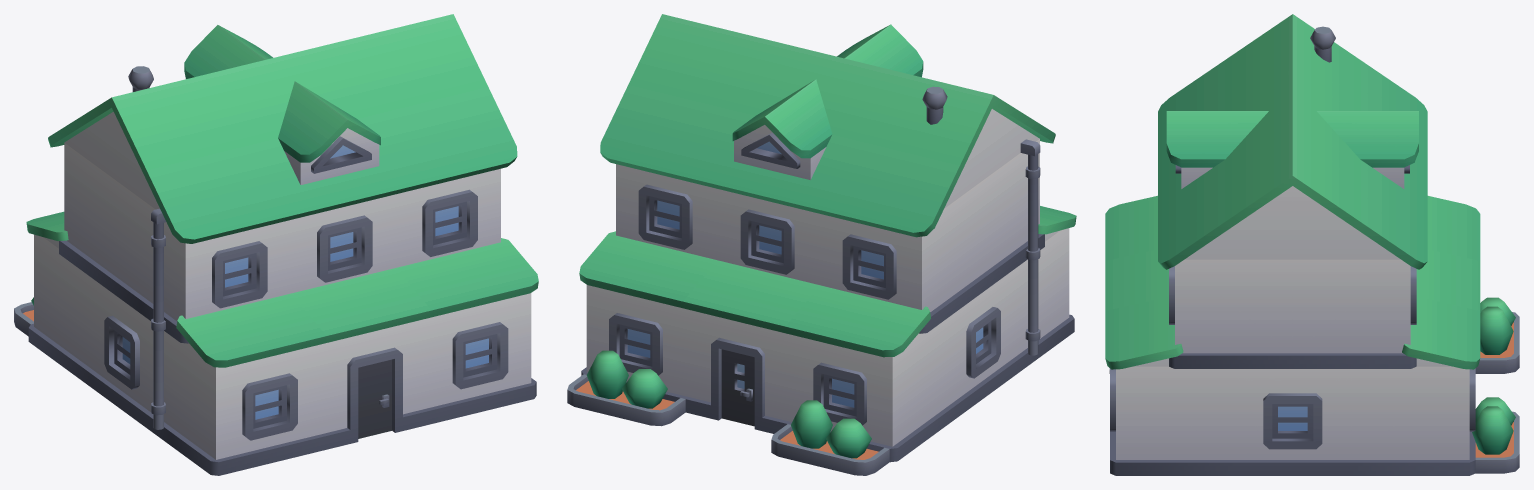
The model's file is k-city-kit-suburban-building-type-t.glb.
3 renders of one model, left to right at view 1: azimuth 30°, elevation 25°; view 2: azimuth 150°, elevation 25°; view 3: azimuth 270°, elevation 25°, orthographic. The views are drawn at different scales.
Visible parts, largest first — view 1: building-type-t; view 2: building-type-t; view 3: building-type-t.
Boxes of the visible parts, <box> form: building-type-t: <box>14,14,538,475</box>; building-type-t: <box>567,14,1076,475</box>; building-type-t: <box>1105,14,1519,475</box>.
Size of the model in its own units: 1.31 by 1.16 by 1.41.
Materials: 1 (1 with a texture image).
